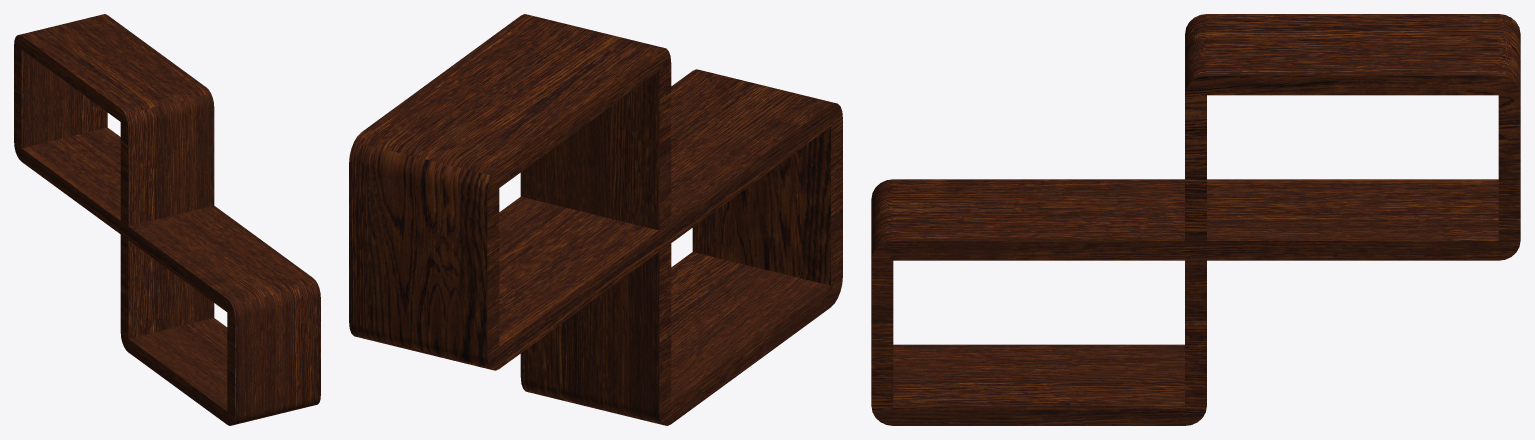
The model's file is Shelf.fbx.
The picture shows the model from 3 angles, left to right: view 1: azimuth 30°, elevation 25°; view 2: azimuth 150°, elevation 25°; view 3: azimuth 270°, elevation 25°; orthographic projection. The views are drawn at different scales.
Parts seen in each view (by area): view 1: Cube; view 2: Cube; view 3: Cube.
Boxes of the visible parts, bbox=[...] form: Cube: bbox=[14, 14, 320, 425]; Cube: bbox=[349, 14, 842, 425]; Cube: bbox=[871, 14, 1520, 425].
Size of the model in its own units: 20 by 53 by 89.
